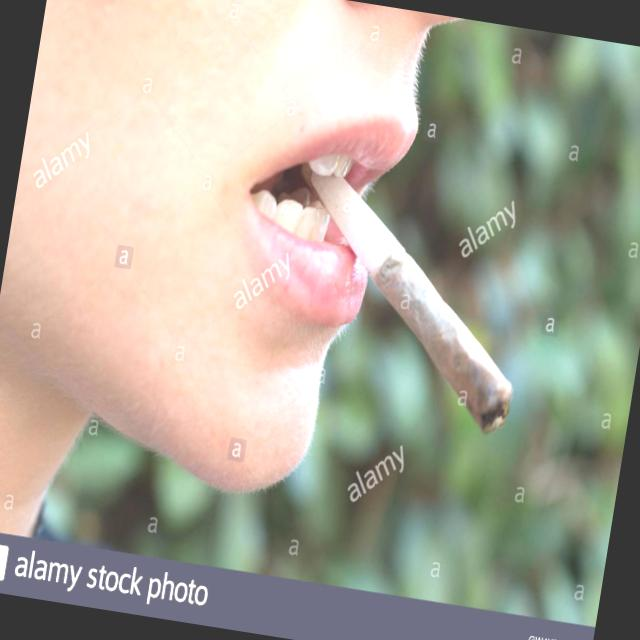cigarette: (282, 174, 550, 447)
